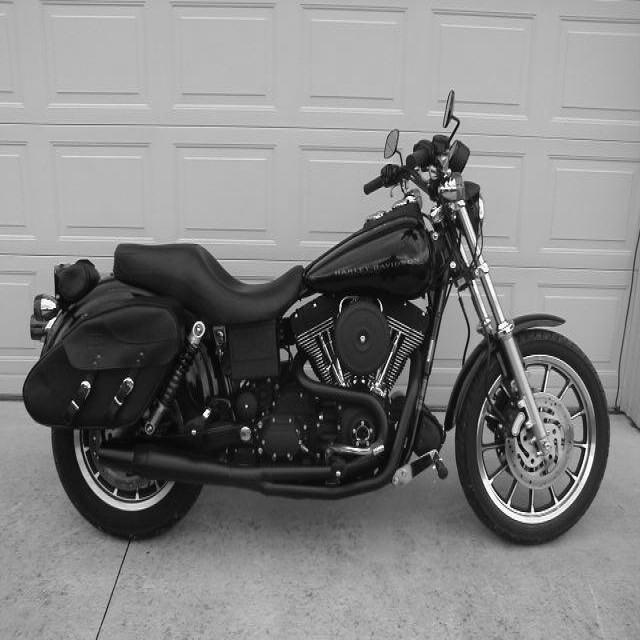Motorcycle: (40, 129, 611, 544)
